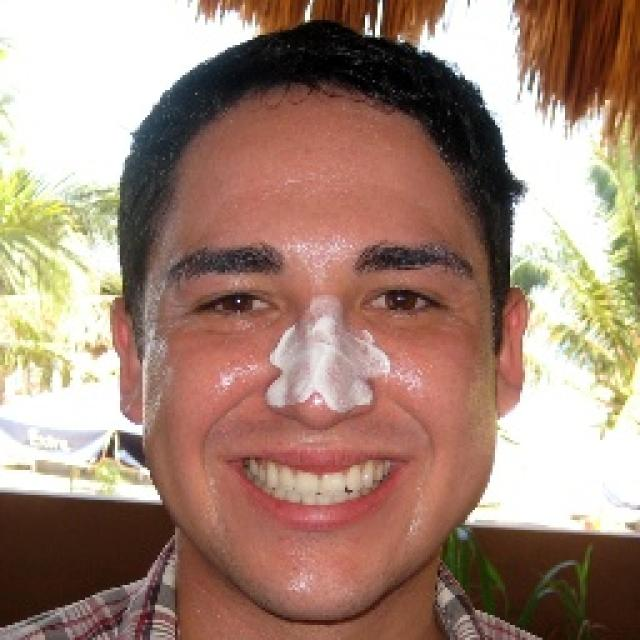earlobe: (494, 288, 530, 420), (108, 297, 144, 425)
